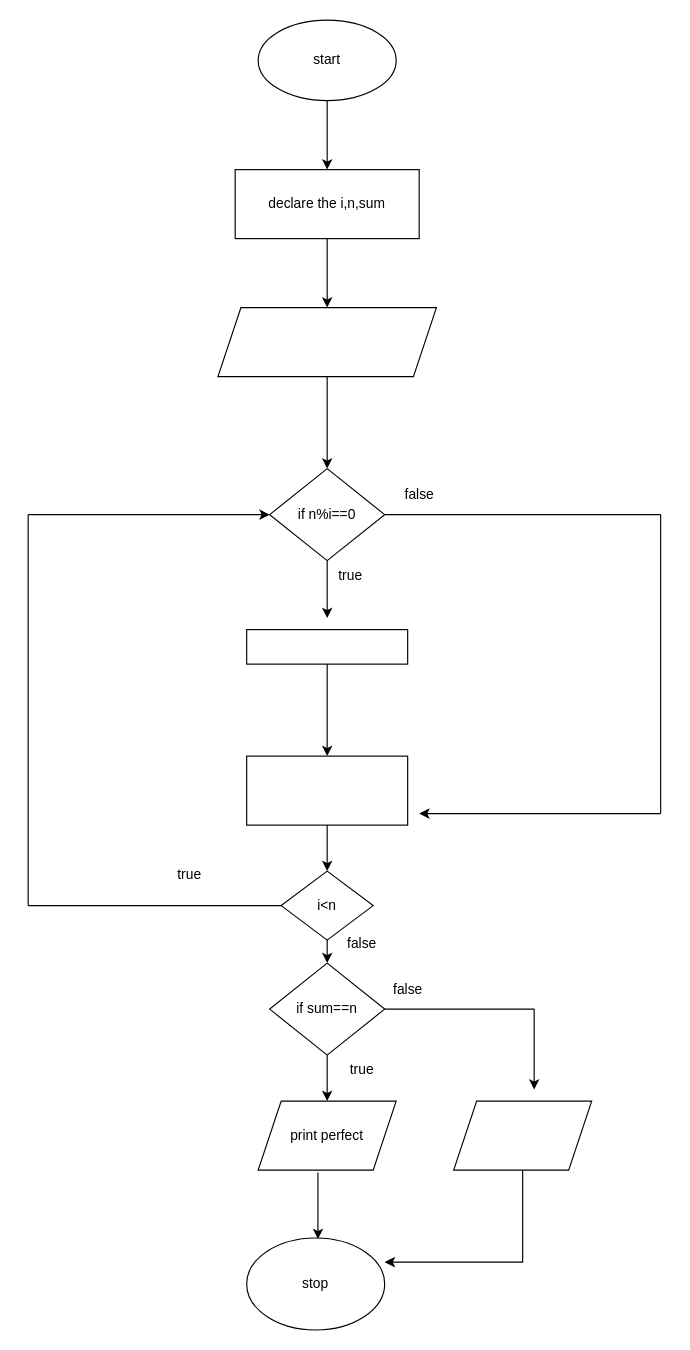
This 690x1350 diagram has some shape labels left out. The shapes that lost their labels are listed below. From the top down, each one's centre as x and y in pixels, then its label:
At (326,341): "read the values n=12,i=1,sum".
At (327,646): "sum=sum+i".
At (327,790): "i=i+1".
At (522,1135): "print not perfect".
